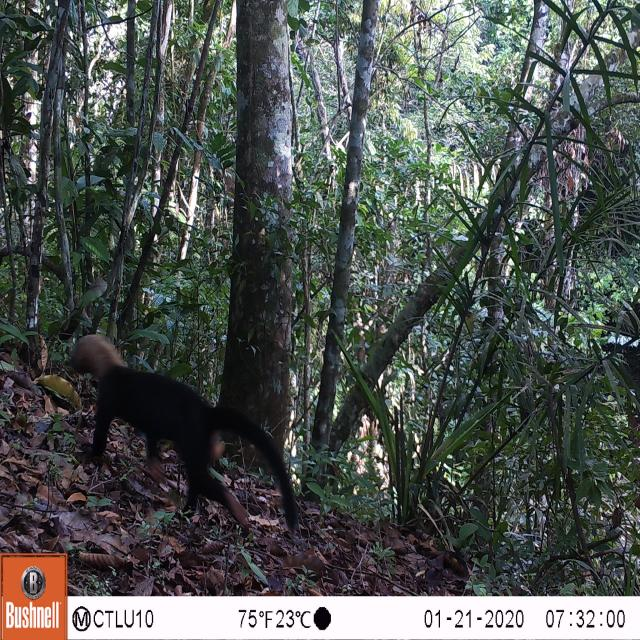Tayra: (65, 323, 296, 530)
